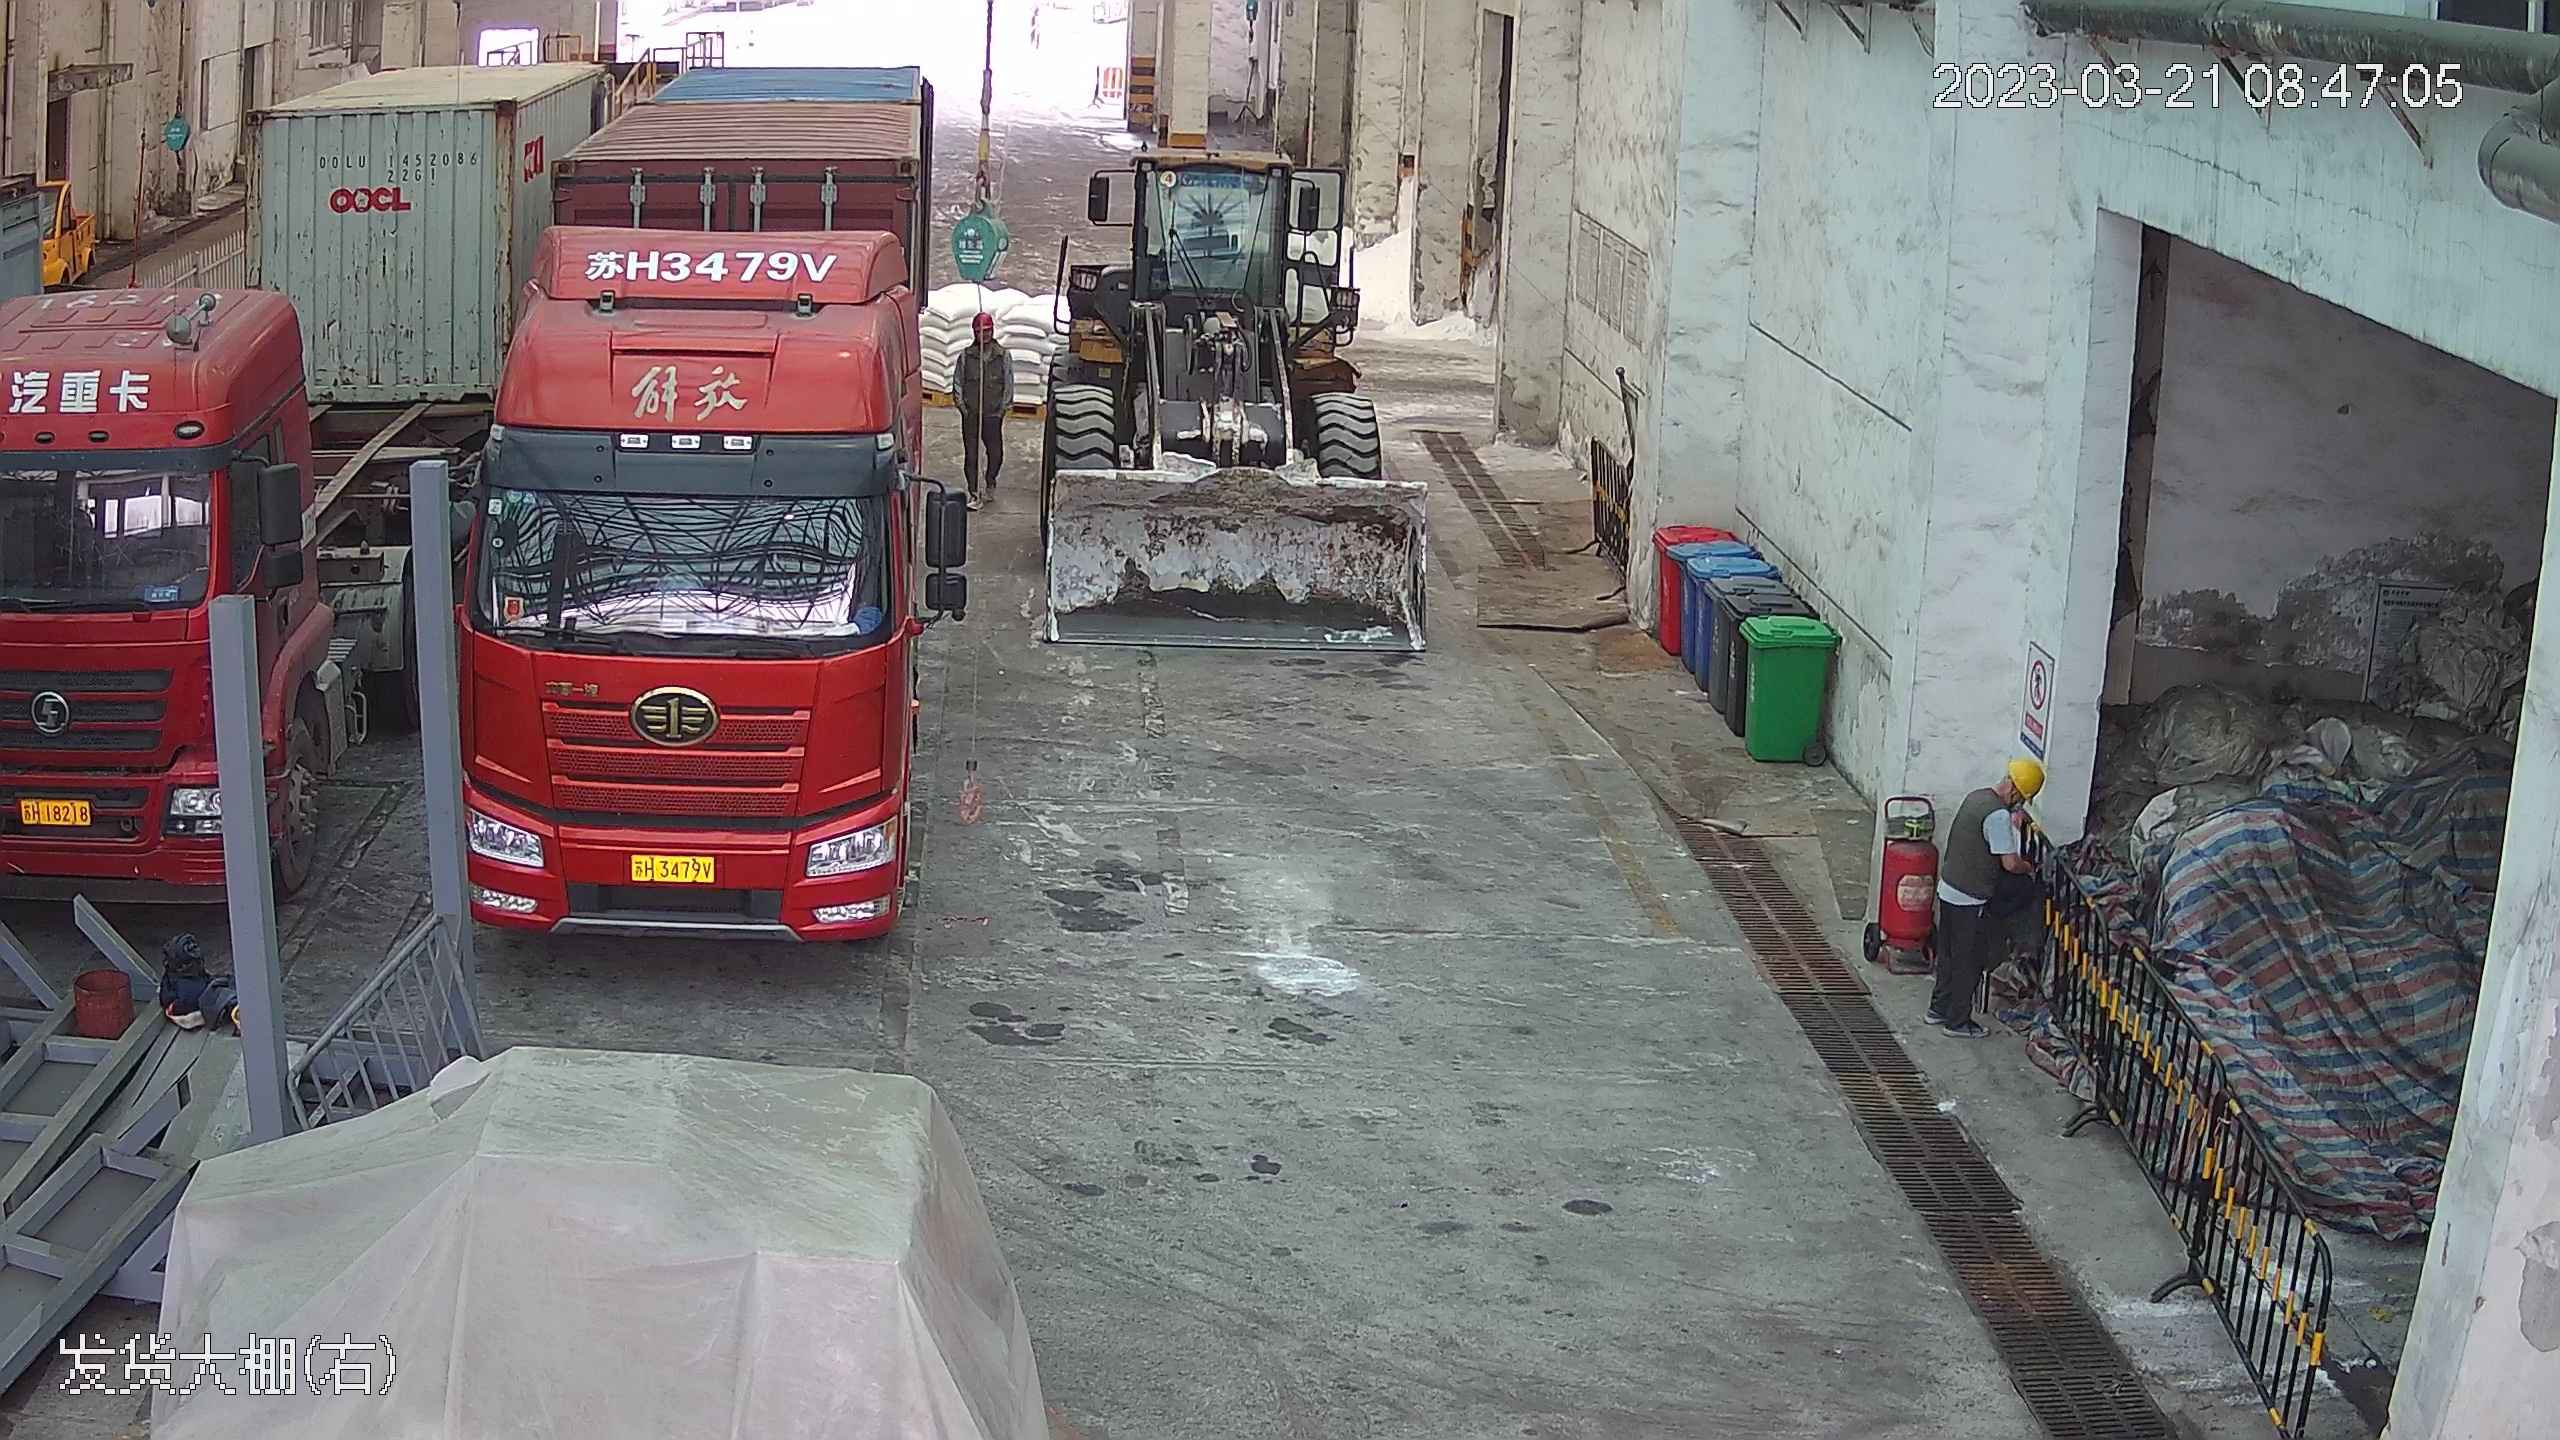head: (1962, 751, 2048, 841), (961, 310, 1006, 368)
helmet: (2004, 751, 2049, 801), (971, 311, 995, 333)
people: (1946, 747, 2057, 1021), (954, 308, 1013, 498)
truck: (442, 38, 955, 950), (1, 124, 442, 888)
